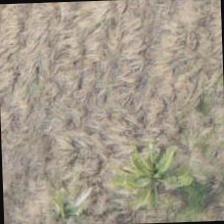Kelapa_Sawit: (102, 127, 196, 220)
